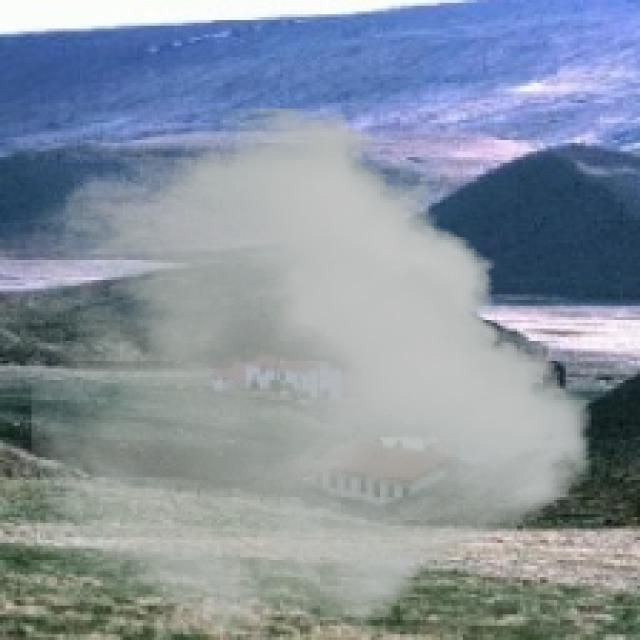smoke: (31, 109, 592, 634)
